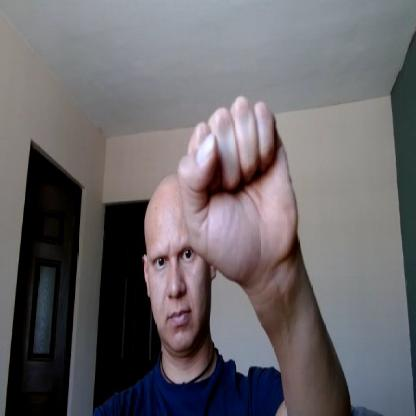S: (177, 94, 302, 282)
